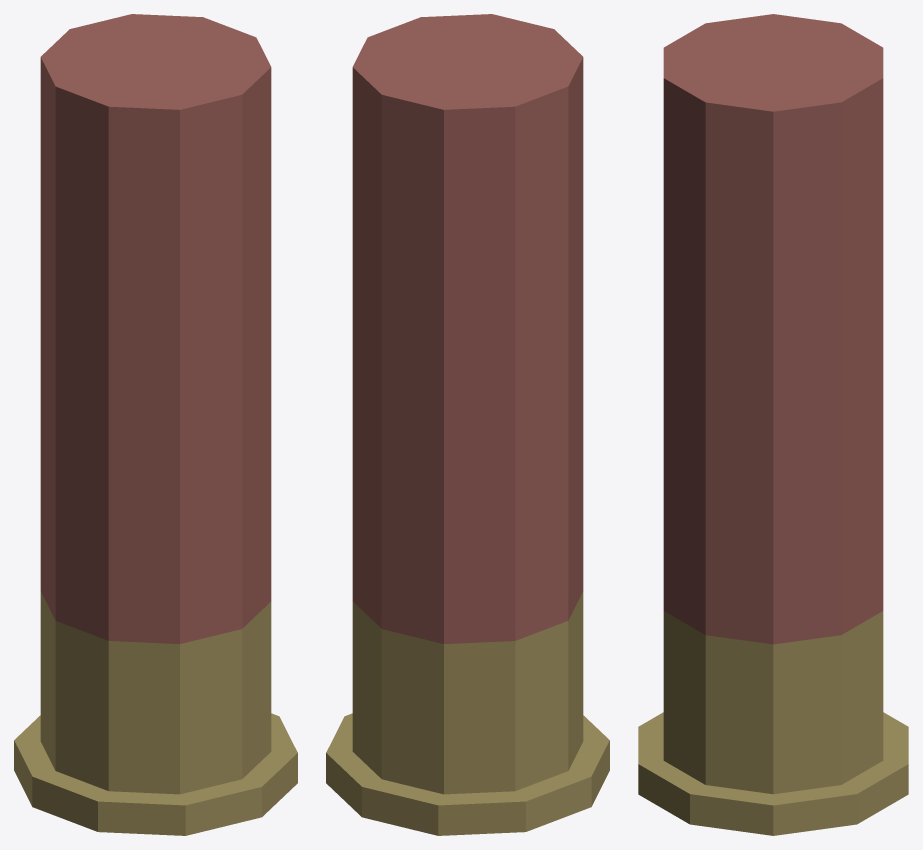
File: shotgun shell.fbx
The picture shows the model from 3 angles, left to right: view 1: azimuth 30°, elevation 25°; view 2: azimuth 150°, elevation 25°; view 3: azimuth 270°, elevation 25°; orthographic projection.
Visible parts, largest first — view 1: pCylinder1; view 2: pCylinder1; view 3: pCylinder1.
Part boxes in pixels (x1=…): pCylinder1: x1=14, y1=14, x2=297, y2=835; pCylinder1: x1=326, y1=14, x2=609, y2=835; pCylinder1: x1=638, y1=14, x2=908, y2=835.
Size of the model in its own units: 2.17 by 6 by 2.06.
